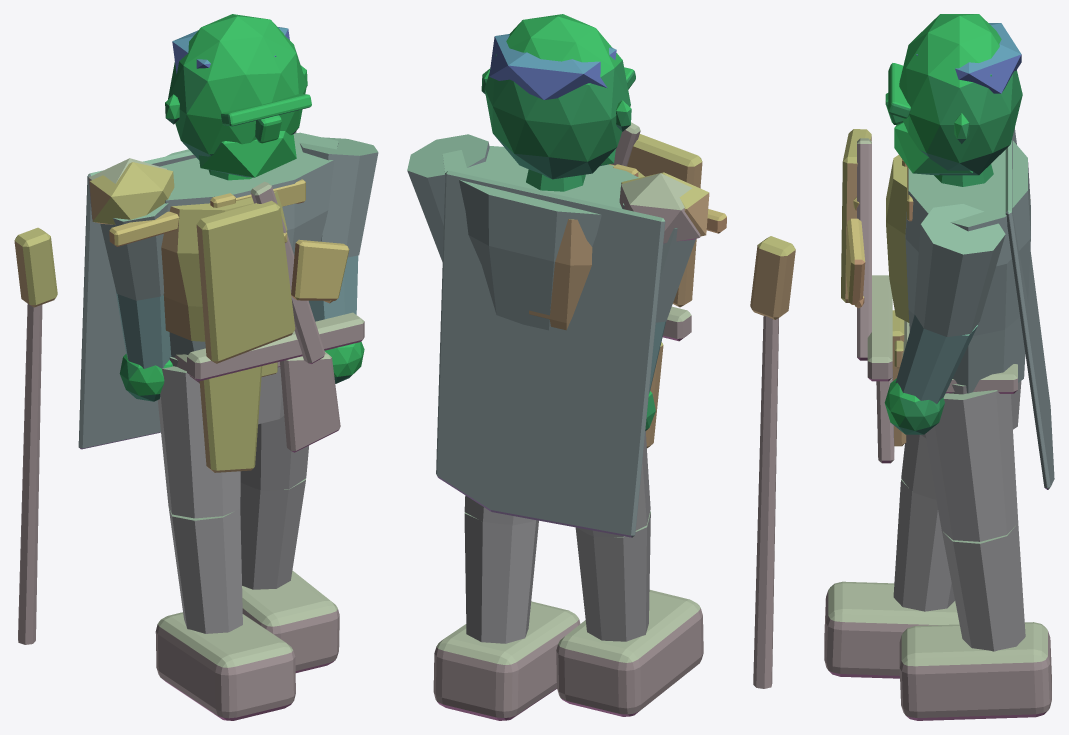
Rendered from npc_raider_v01.glb.
3 renders of one model, left to right at view 1: azimuth 30°, elevation 25°; view 2: azimuth 150°, elevation 25°; view 3: azimuth 270°, elevation 25°, orthographic. The views are drawn at different scales.
Visible parts, largest first — view 1: GEO_npc_raider_v01; view 2: GEO_npc_raider_v01; view 3: GEO_npc_raider_v01.
Boxes of the visible parts, x1,y1,x2,y2 form: GEO_npc_raider_v01: [14, 14, 378, 720]; GEO_npc_raider_v01: [407, 14, 795, 720]; GEO_npc_raider_v01: [824, 14, 1054, 720].
Size of the model in its own units: 1.19 by 2.07 by 0.6425.
